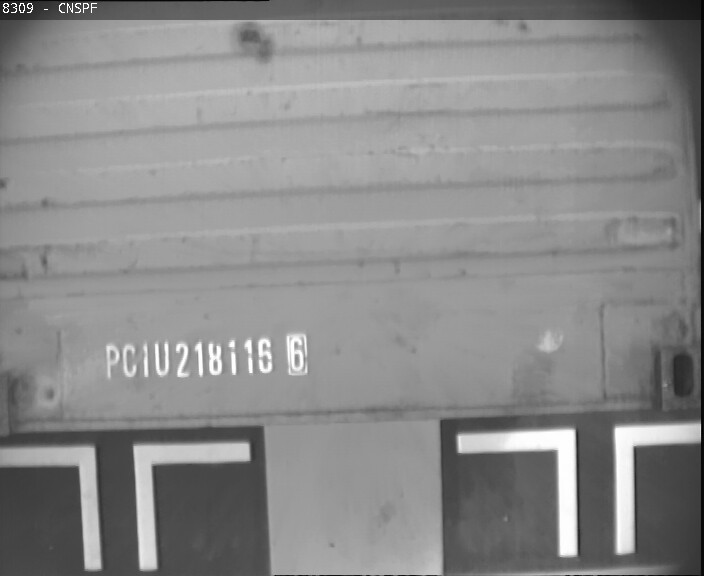groundmarker_1: (459, 424, 704, 556), (1, 441, 252, 568)
